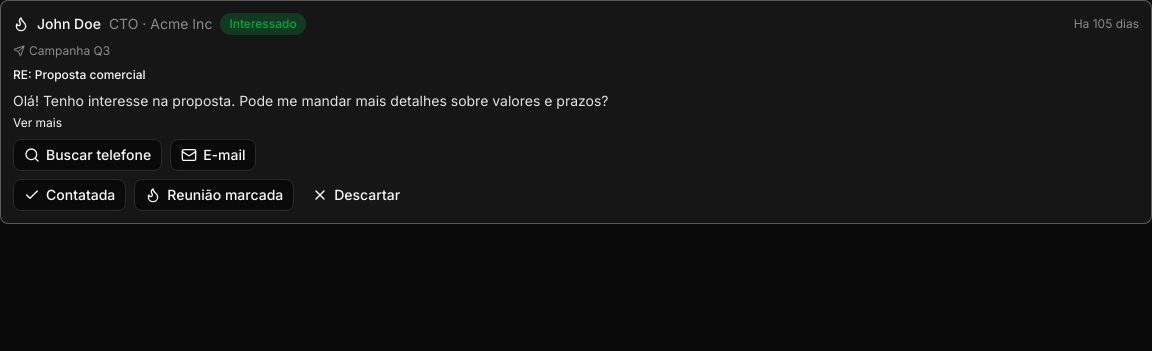
Test case: OpportunityCard — Story 21.5 › Rascunho por IA (AC1/AC2/AC5) › Tentar de novo após falha regenera e mostra o rascunho (AC5)
Click the element with test id "opportunity-card" at (46, 9), box [0,0,1151,224]
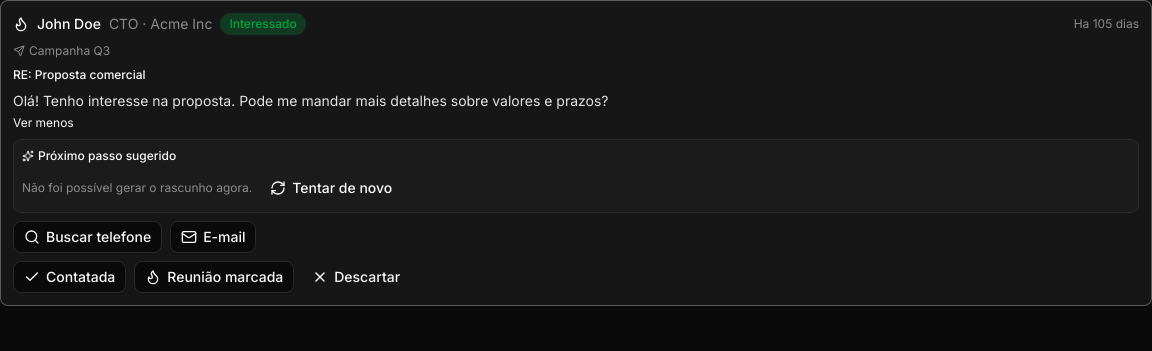
Click the button with test id "opportunity-draft-retry" at (331, 188), box [260,172,402,204]
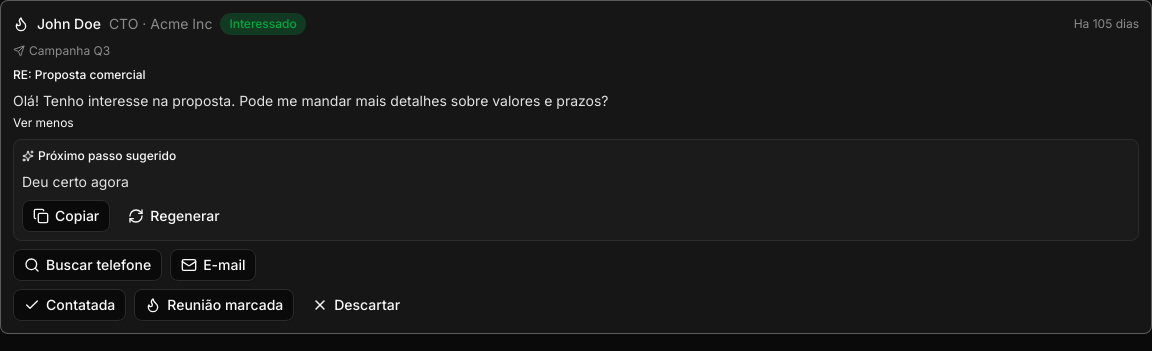
Check: the text with test id "opportunity-draft-text" reads "Deu certo agora", box [22,173,129,190]
